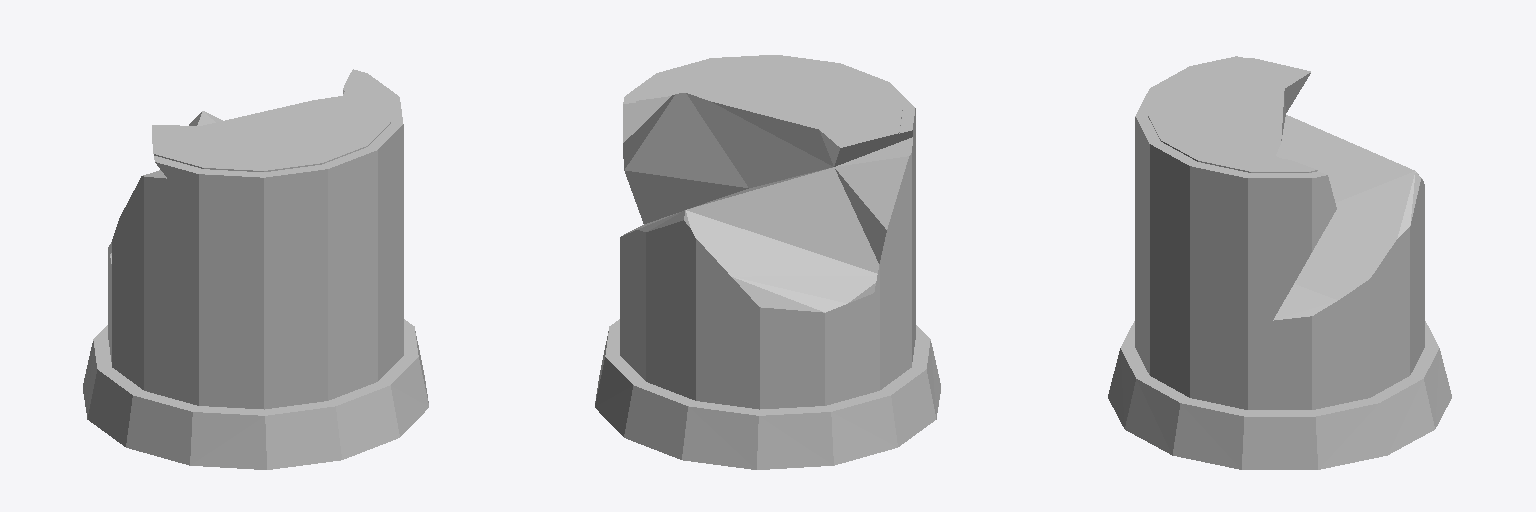
Rendered from kolumna_z_podstawa.obj.
The picture shows the model from 3 angles: view 1: azimuth 30°, elevation 25°; view 2: azimuth 150°, elevation 25°; view 3: azimuth 270°, elevation 25°; orthographic projection.
Visible parts, largest first — view 1: Cylinder.018; view 2: Cylinder.018; view 3: Cylinder.018.
Part boxes in pixels (bbox=[...]): Cylinder.018: bbox=[83, 69, 428, 469]; Cylinder.018: bbox=[595, 55, 940, 469]; Cylinder.018: bbox=[1108, 56, 1451, 469].
Bounding box in the file's own units: 6.2 × 5.6 × 6.2.